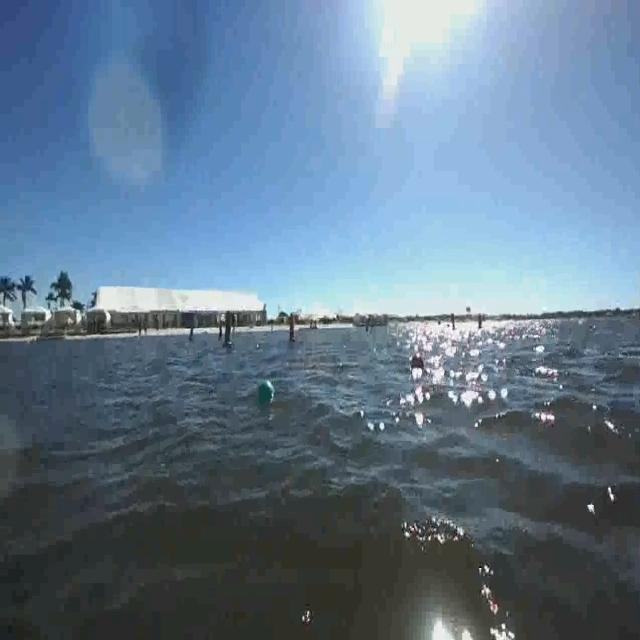green-buoy: (260, 380, 276, 401)
green-column-buoy: (222, 315, 233, 350), (188, 317, 195, 341)
red-column-buoy: (288, 312, 296, 347), (218, 319, 224, 339)
